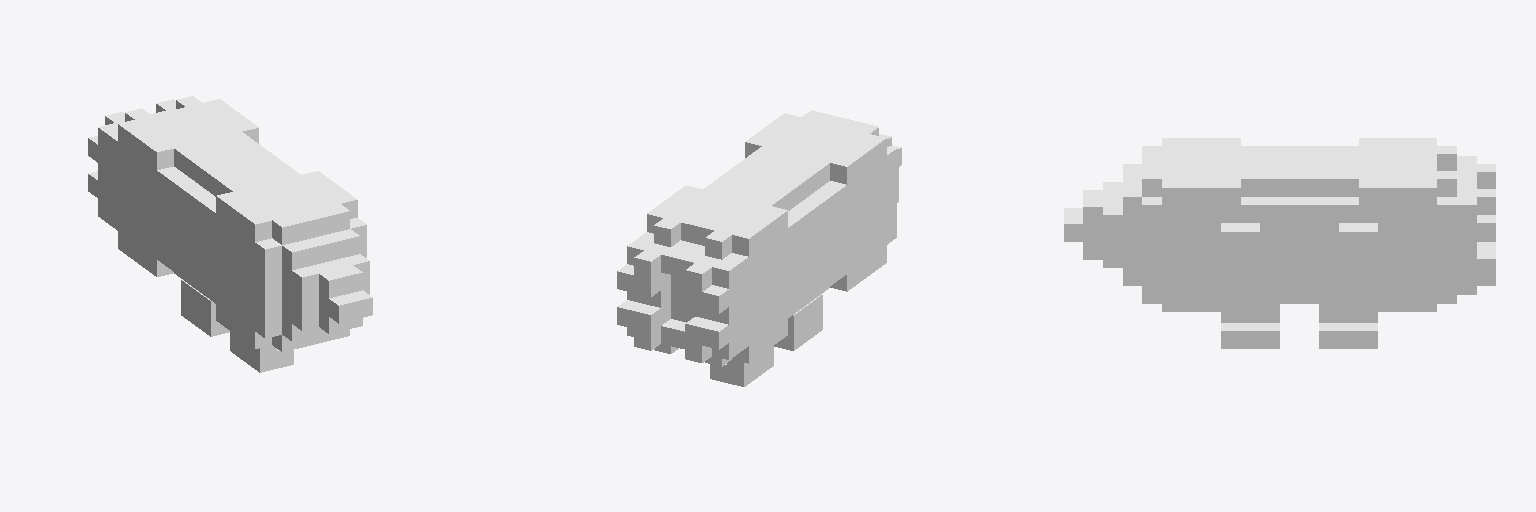
File: mepes.obj
The picture shows the model from 3 angles: view 1: azimuth 30°, elevation 25°; view 2: azimuth 150°, elevation 25°; view 3: azimuth 270°, elevation 25°; orthographic projection.
Parts seen in each view (by area): view 1: object 1; view 2: object 1; view 3: object 1.
Part boxes in pixels (x1,y1,x2,y2): object 1: (88, 96, 372, 372); object 1: (617, 110, 901, 386); object 1: (1064, 138, 1495, 348).
Size of the model in its own units: 0.7 by 1 by 2.2.